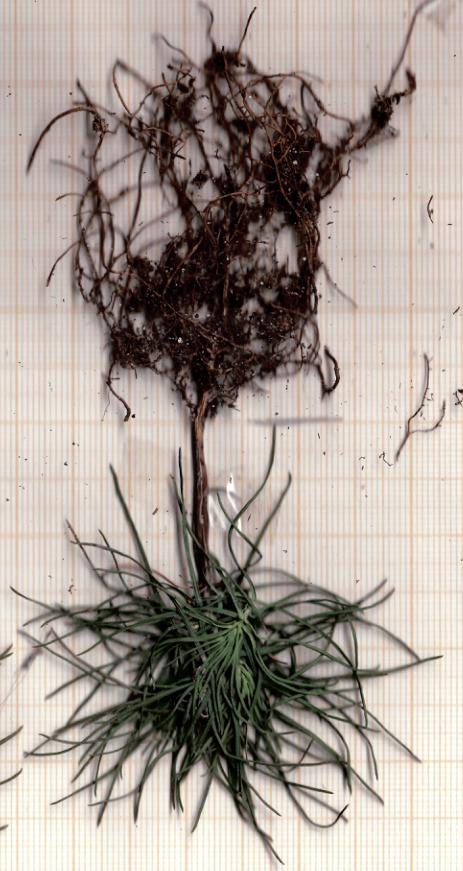flower: (1, 551, 454, 871)
root: (17, 0, 421, 422)
stem: (170, 417, 227, 582)
